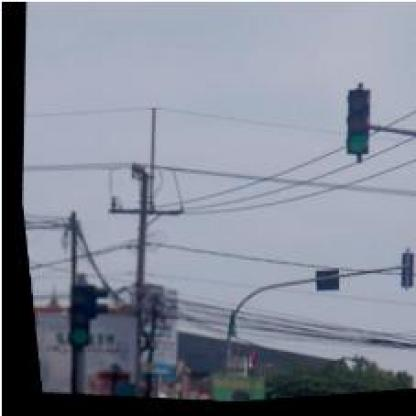green: (335, 89, 376, 160), (55, 283, 88, 347)
